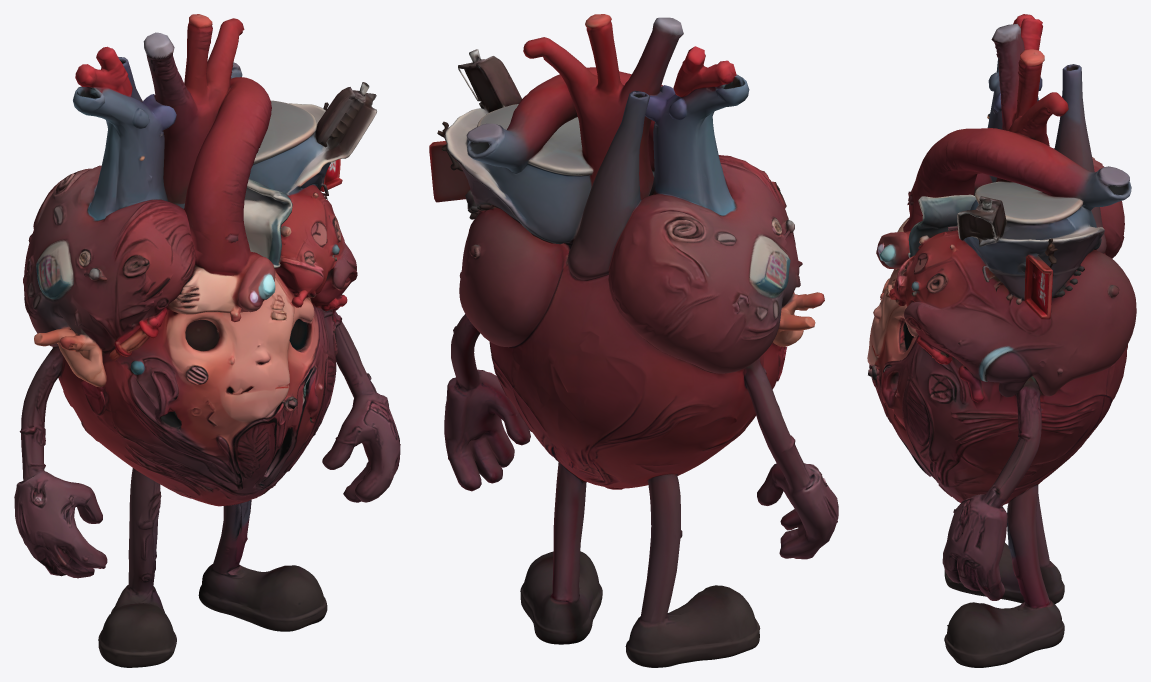
File: the_mall_mother.glb
3 renders of one model, left to right at view 1: azimuth 30°, elevation 25°; view 2: azimuth 150°, elevation 25°; view 3: azimuth 270°, elevation 25°, orthographic. The views are drawn at different scales.
Visible parts, largest first — view 1: the_mall_mother; view 2: the_mall_mother; view 3: the_mall_mother.
Boxes of the visible parts, x1,y1,x2,y2 form: the_mall_mother: [14, 14, 400, 667]; the_mall_mother: [429, 14, 838, 667]; the_mall_mother: [867, 14, 1136, 667].
Size of the model in its own units: 3.89 by 6 by 2.54.
Materials: 1 (1 with a texture image).
